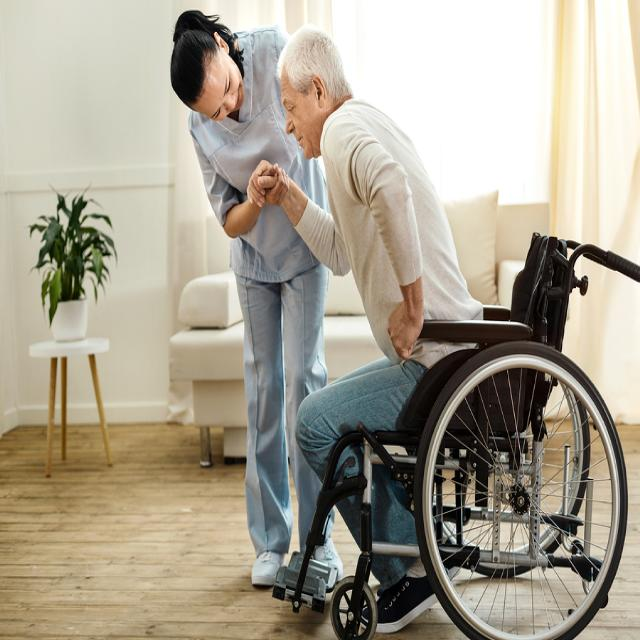wheelchairs: (269, 228, 640, 640)
